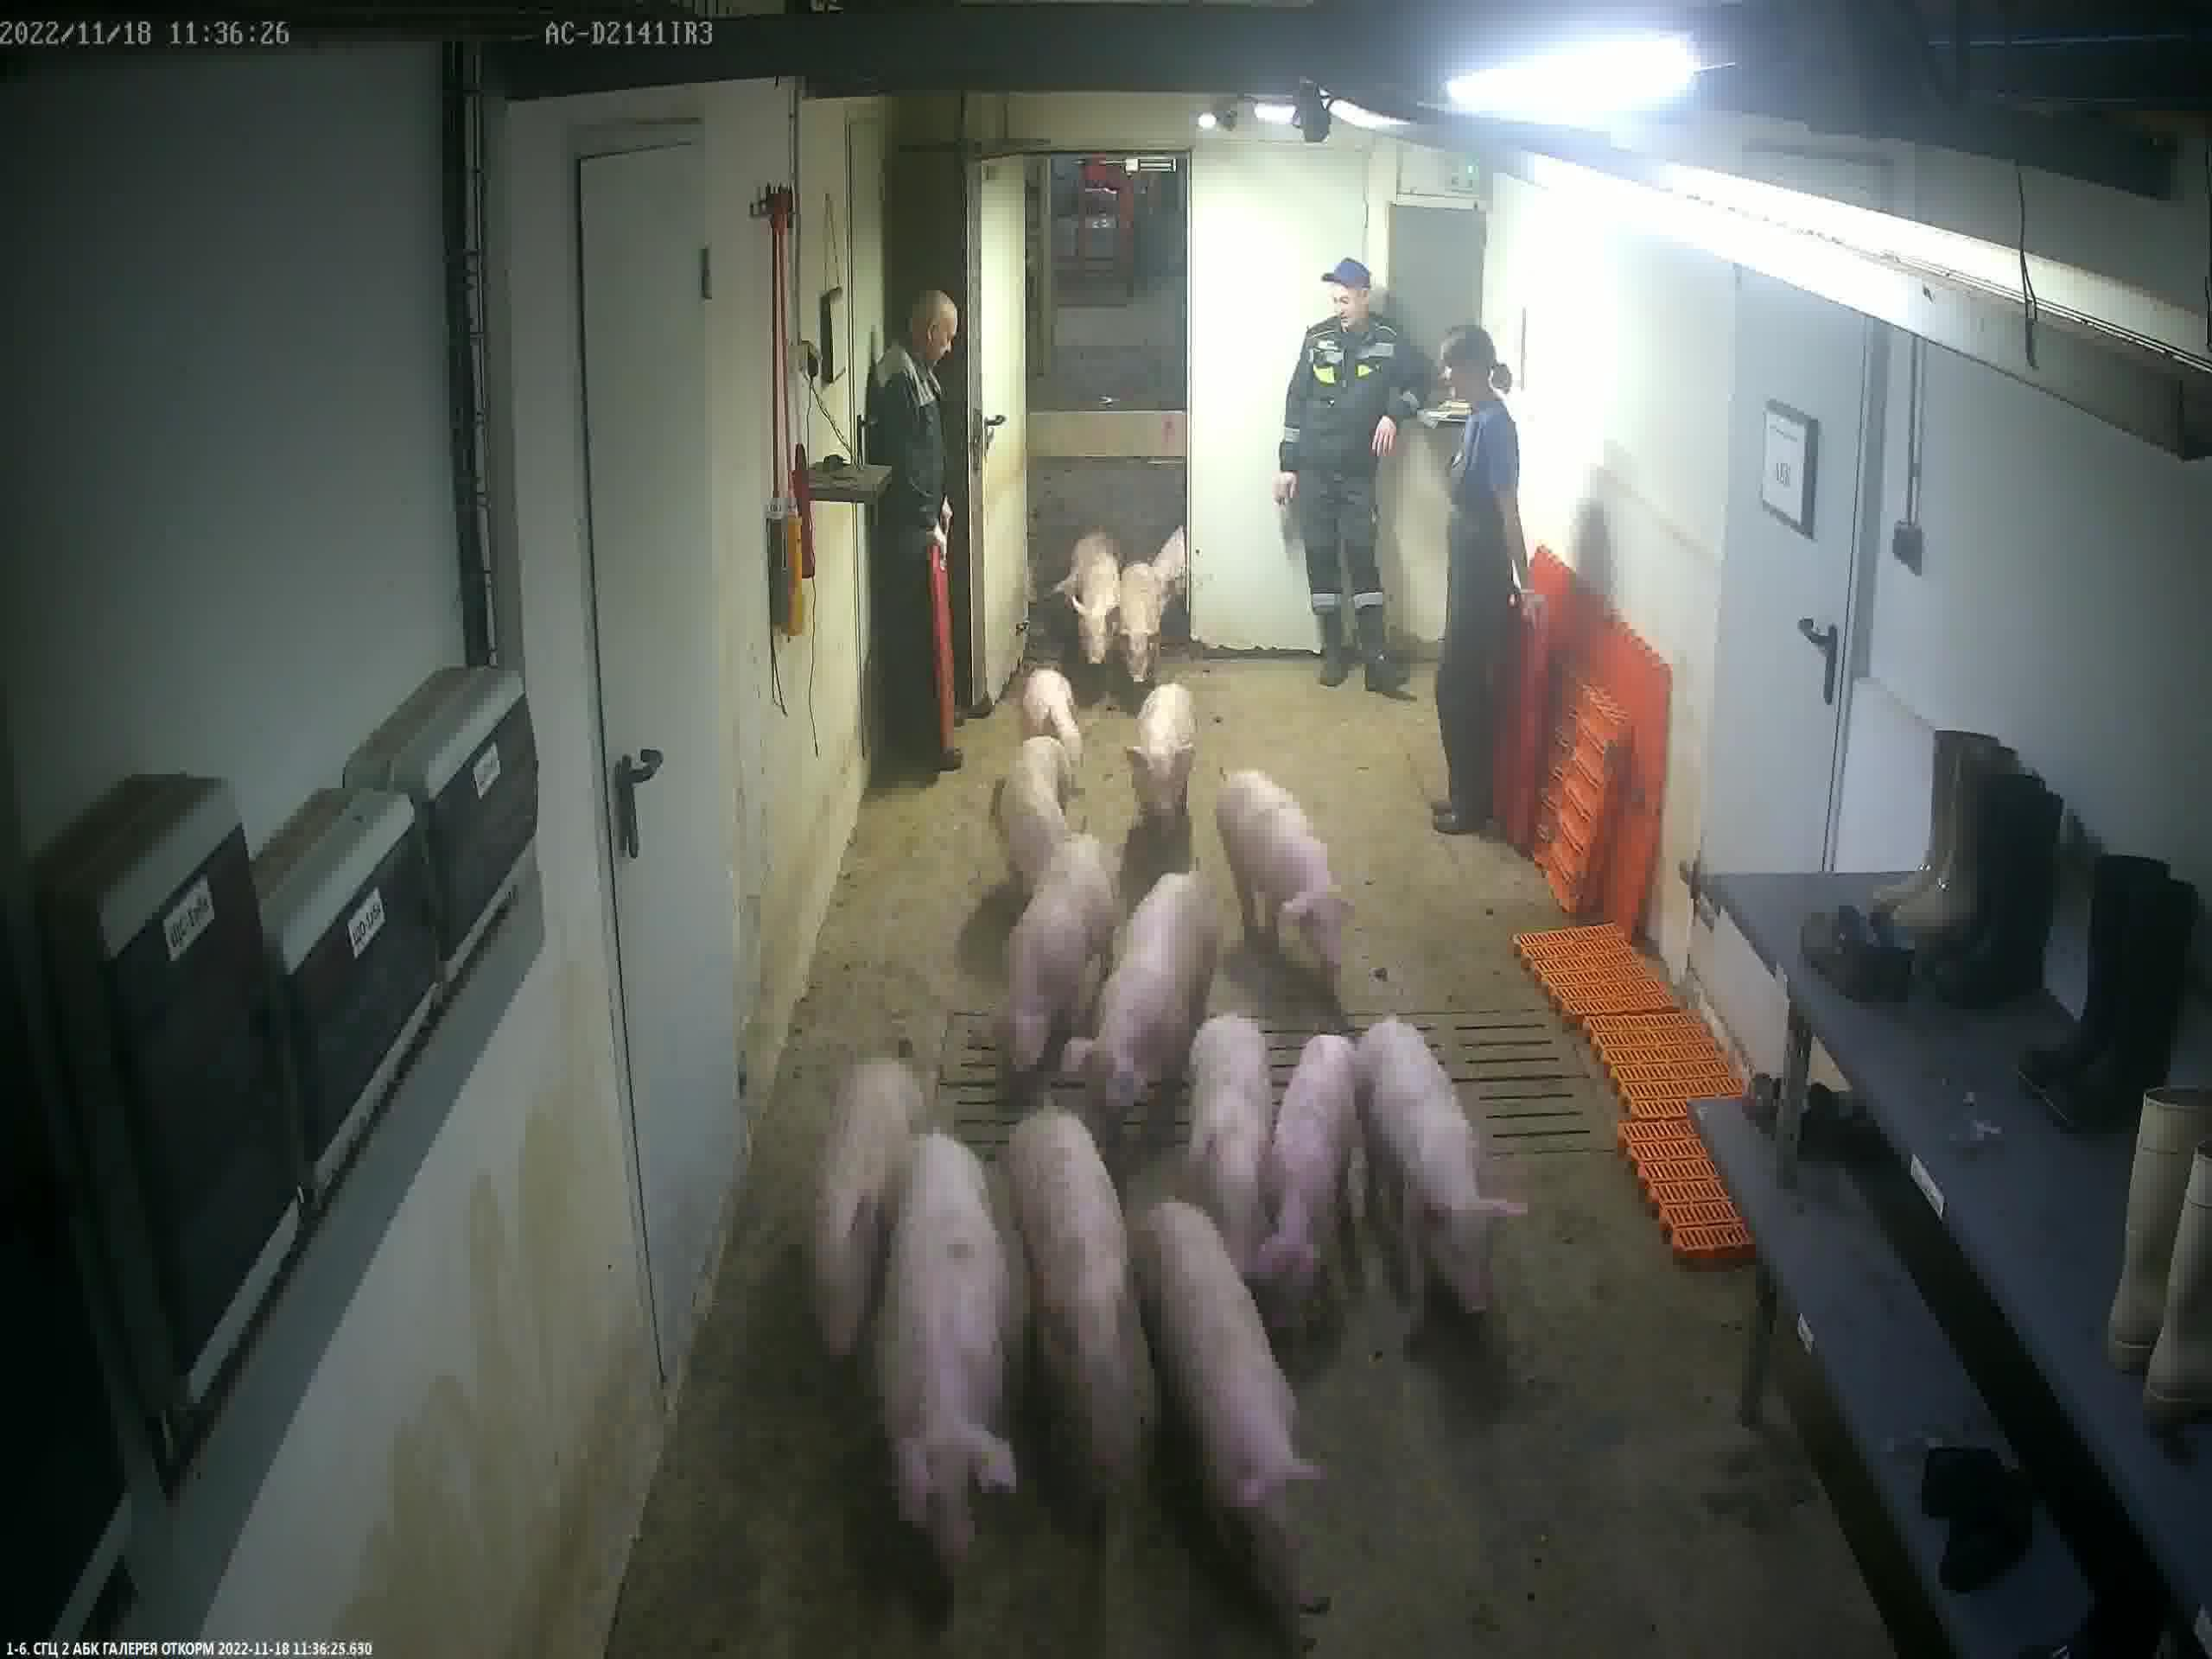Pigs: (1137, 1202, 1327, 1561), (881, 1136, 1015, 1560), (1017, 1114, 1155, 1462), (1367, 1023, 1527, 1319), (1062, 871, 1216, 1141), (815, 1058, 925, 1354), (1217, 775, 1353, 997), (1008, 831, 1120, 1066), (1258, 1035, 1355, 1290), (1190, 1016, 1271, 1276), (1125, 685, 1190, 828), (1001, 739, 1064, 882), (1049, 533, 1120, 610), (1071, 552, 1120, 664), (1022, 673, 1082, 762), (1120, 563, 1162, 681), (1153, 525, 1184, 612)
